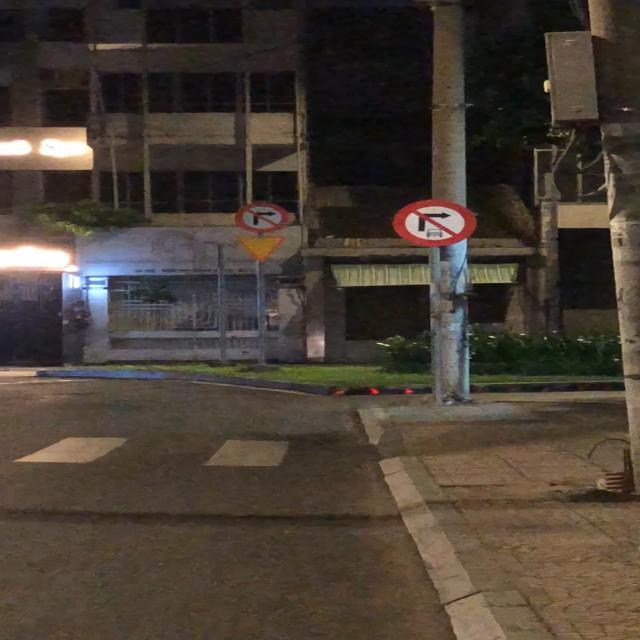Bien bao cam re phai: (233, 200, 290, 233)
Bien bao cam xe o to re phai: (388, 198, 481, 248)
Bien bao giao nhau voi duong uu tien: (231, 234, 290, 264)
